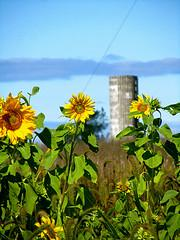sunflower: (0, 93, 40, 142), (63, 94, 94, 122), (129, 94, 151, 115)
